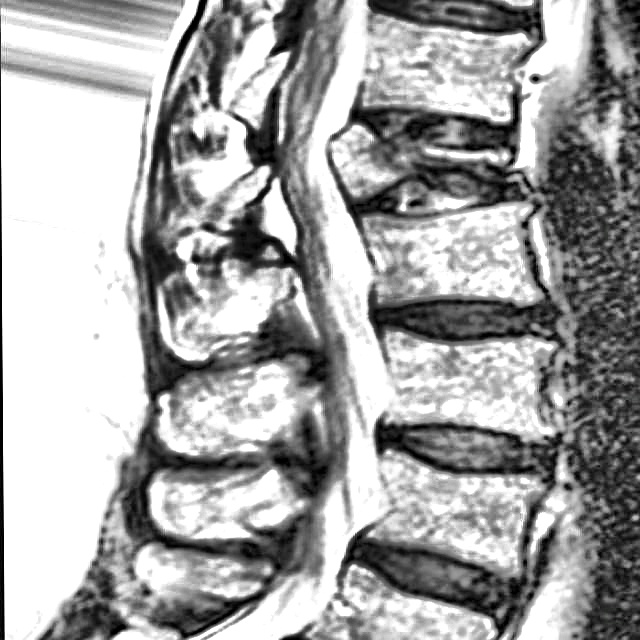Comminuted: (310, 86, 552, 227)
